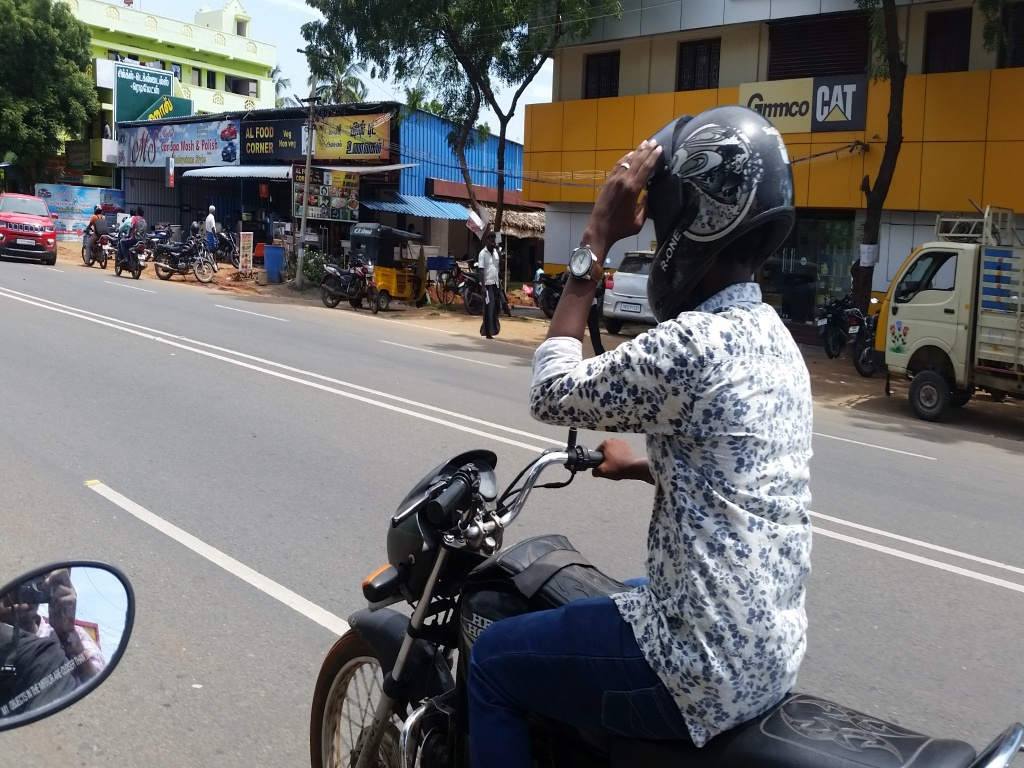biker: (291, 51, 1024, 768)
helmet: (606, 95, 803, 337)
